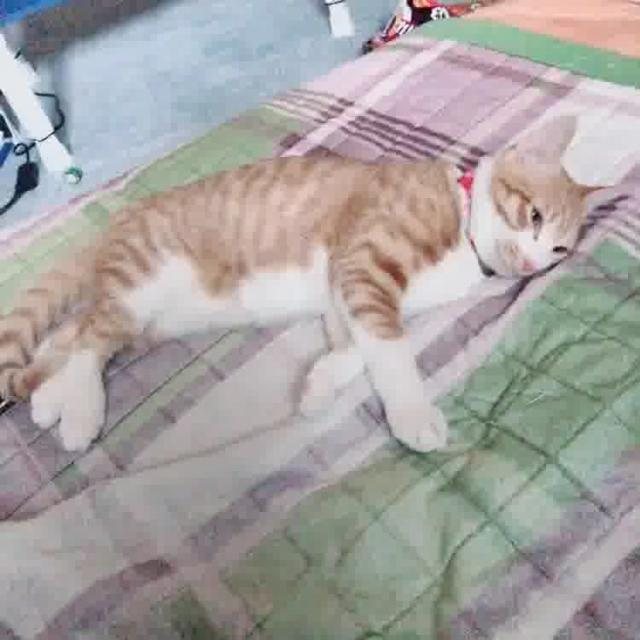cat: (1, 92, 638, 471)
